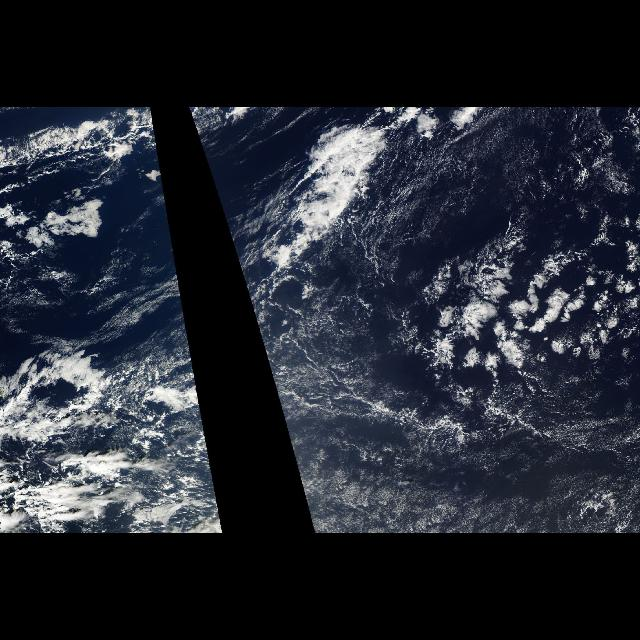Sugar: (297, 401, 637, 533), (374, 109, 622, 214)
